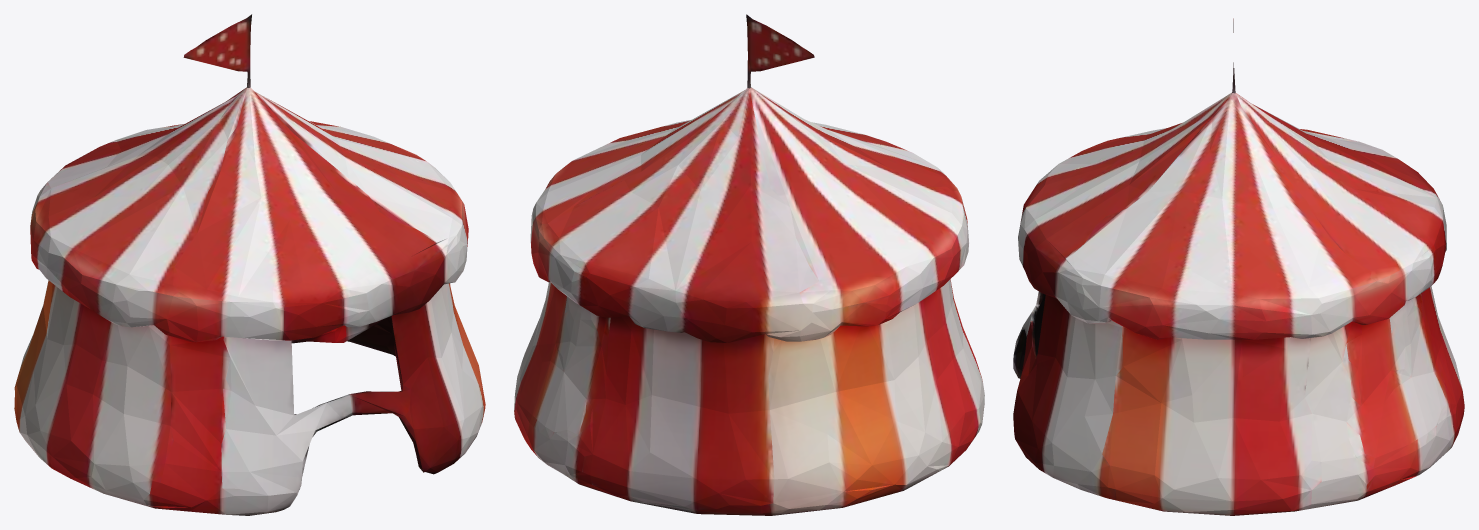
Rendered from tent.glb.
3 renders of one model, left to right at view 1: azimuth 30°, elevation 25°; view 2: azimuth 150°, elevation 25°; view 3: azimuth 270°, elevation 25°, orthographic.
Parts seen in each view (by area): view 1: geometry_0; view 2: geometry_0; view 3: geometry_0.
Part boxes in pixels (x1=…): geometry_0: x1=14, y1=14, x2=485, y2=515; geometry_0: x1=514, y1=14, x2=984, y2=515; geometry_0: x1=1013, y1=18, x2=1464, y2=515.
Size of the model in its own units: 0.9323 by 0.8945 by 0.9097.
Materials: 1 (1 with a texture image).
